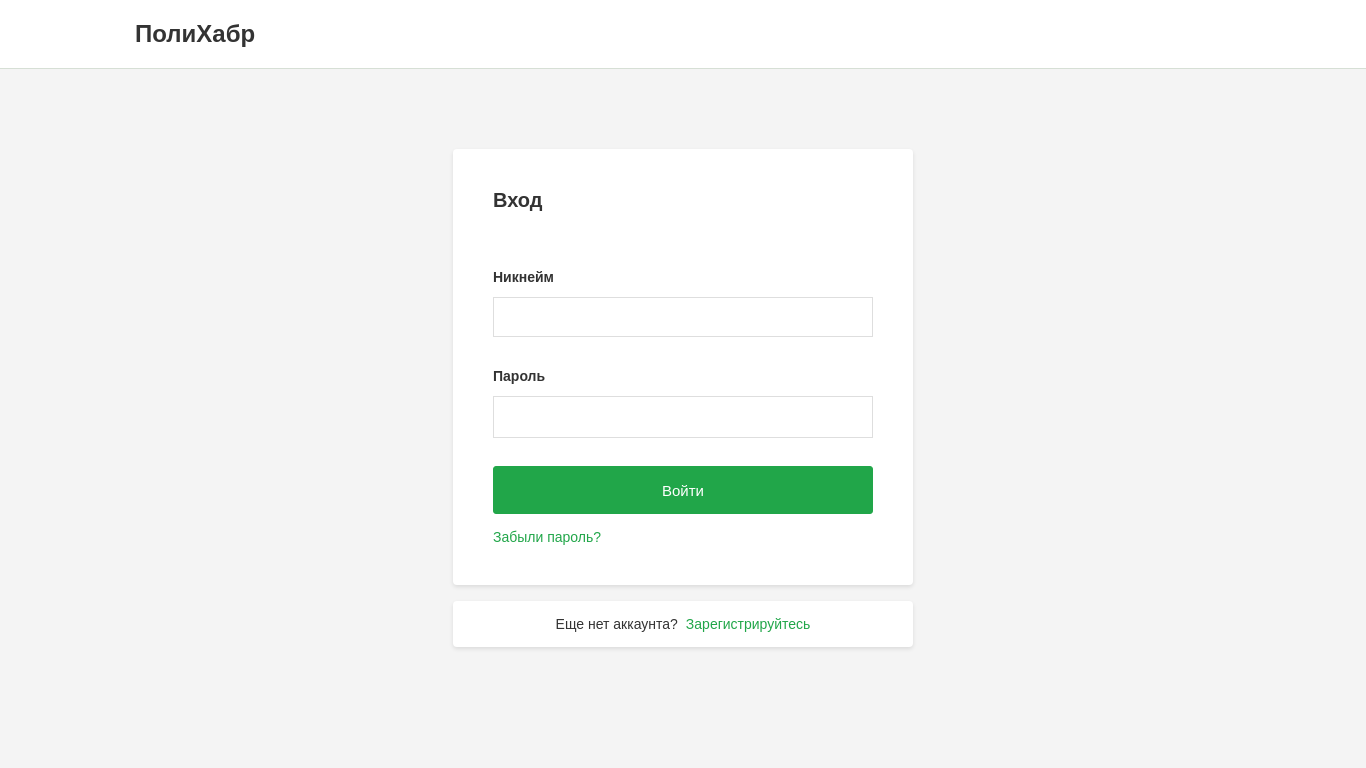
Scenario: Login error
The image size is (1366, 768).
Type "admincheck" into the field at coordinates (683, 317), box [493,297,873,337]
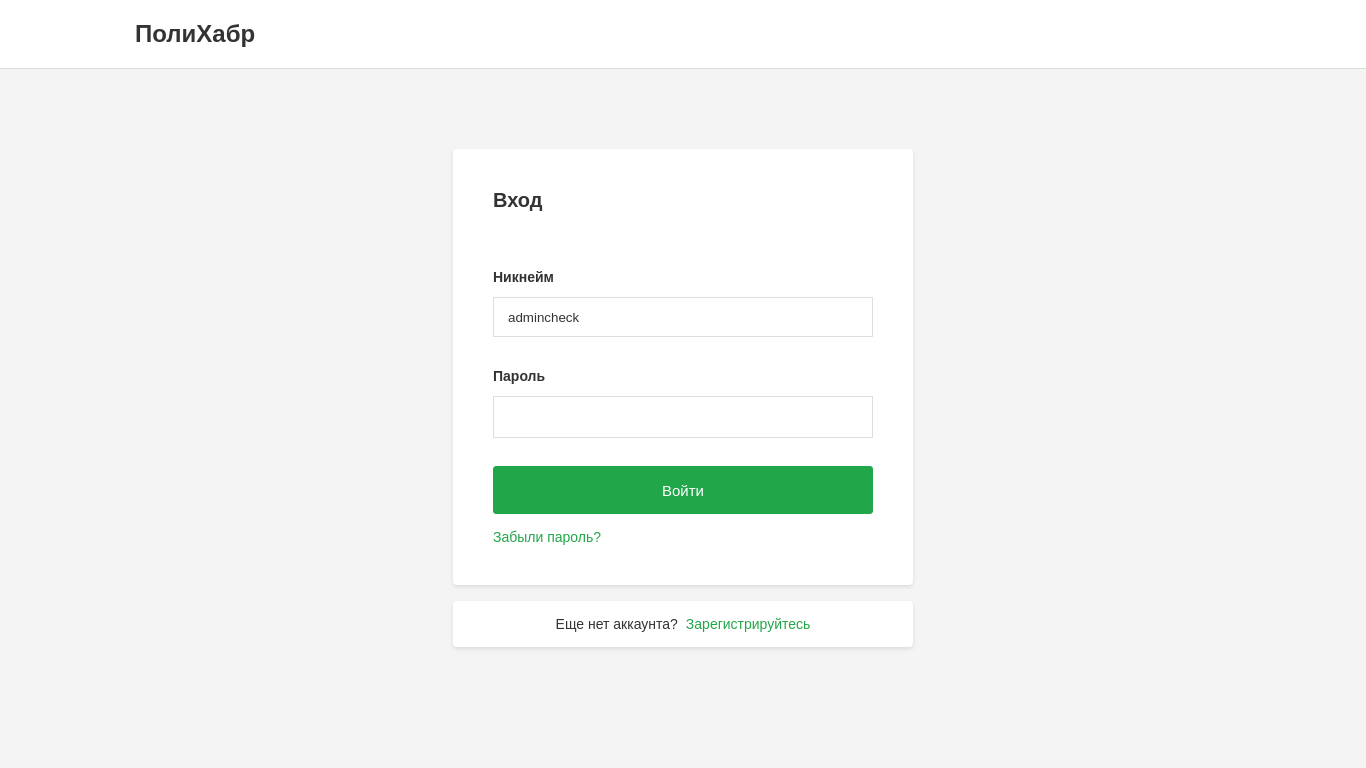
Type "admincool" into the password field at coordinates (683, 417), box [493,396,873,438]
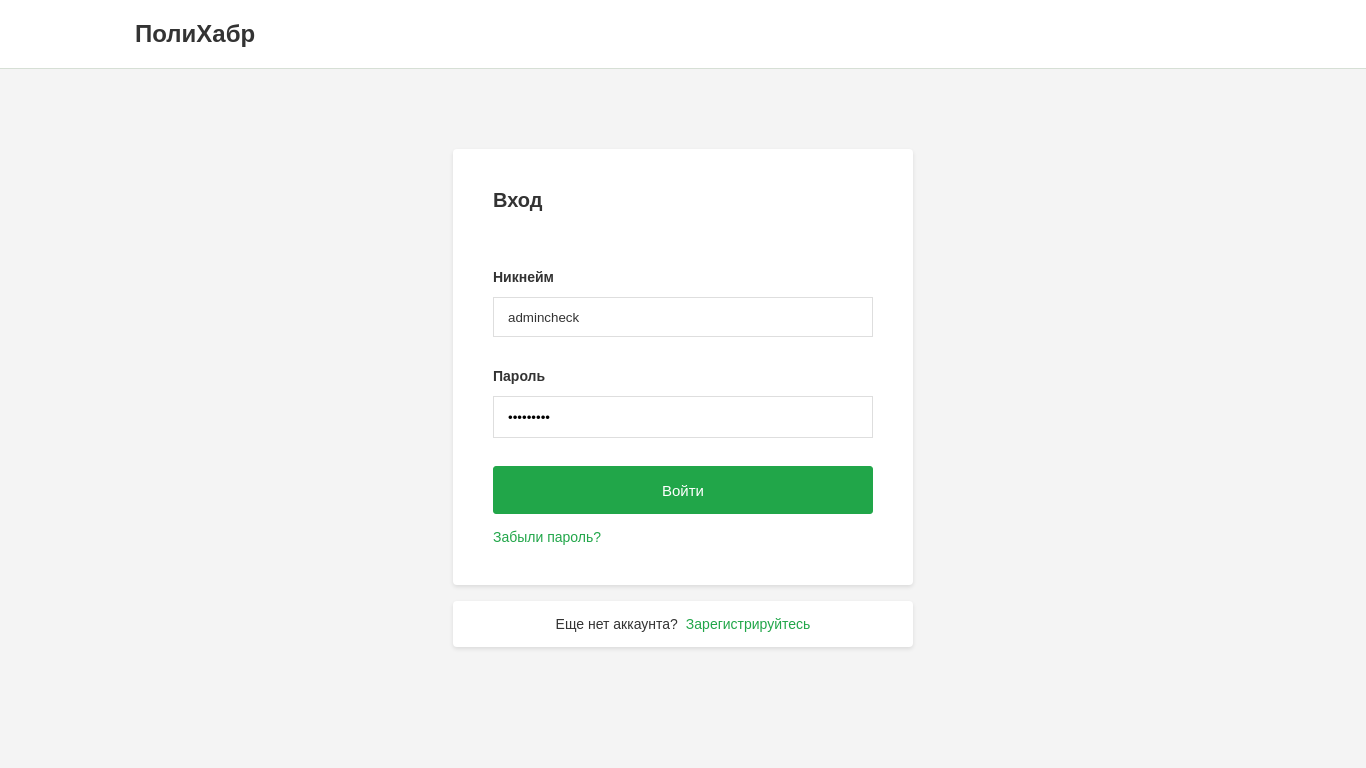
Click the button with class "enter" at coordinates (683, 490), box [493,466,873,514]
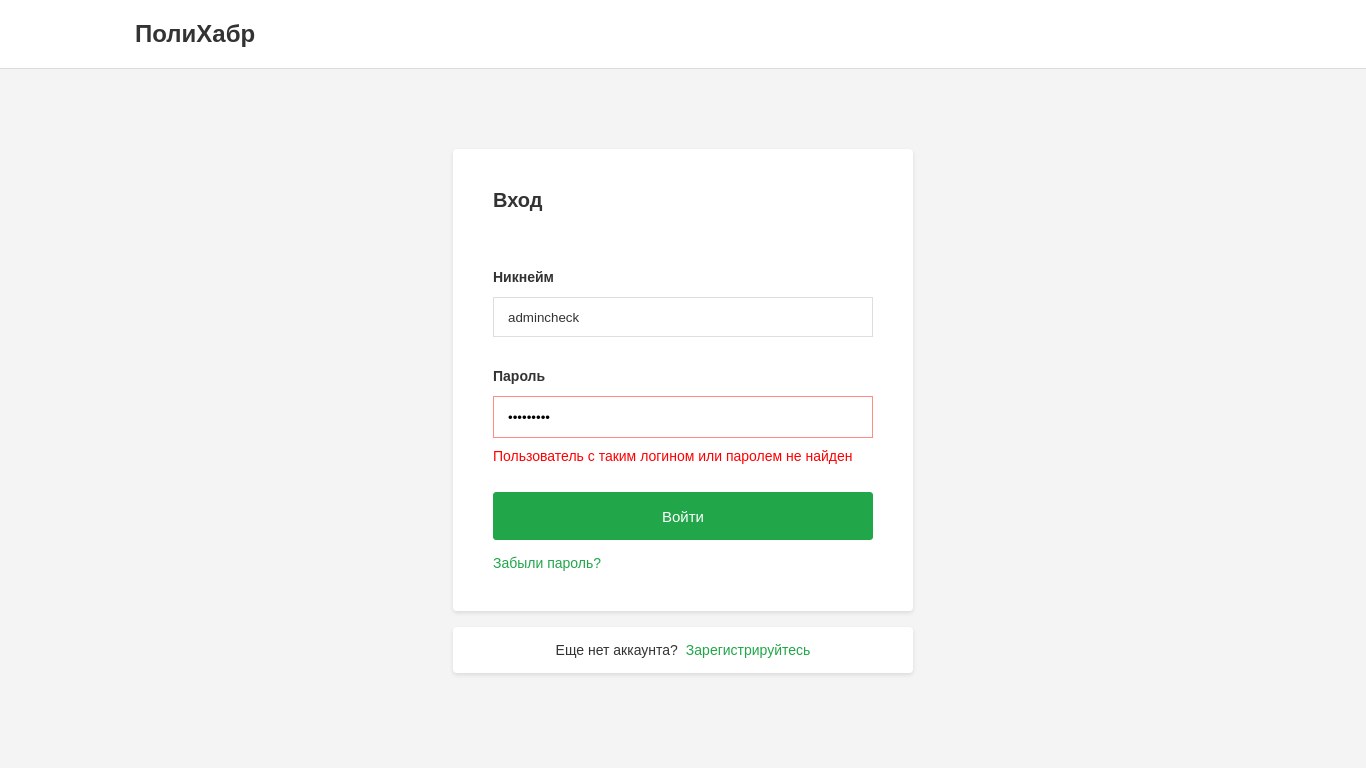
Expected: the text with class "error-text" reads "Пользователь с таким логином или паролем не найден", [493,448,873,464]
